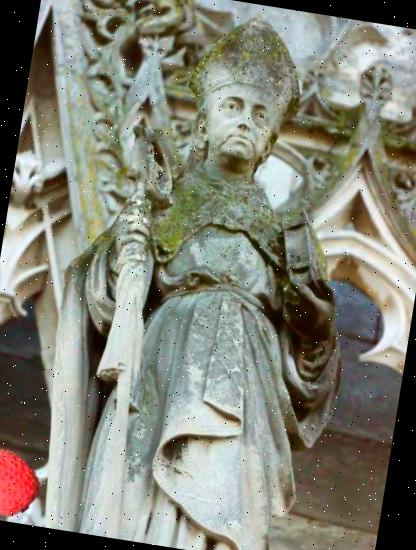Lychee: (0, 442, 47, 522)
